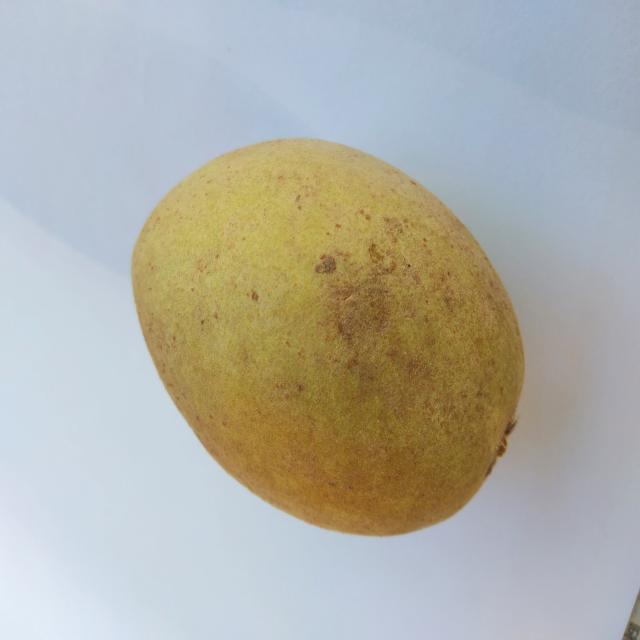mentah: (88, 132, 532, 547)
